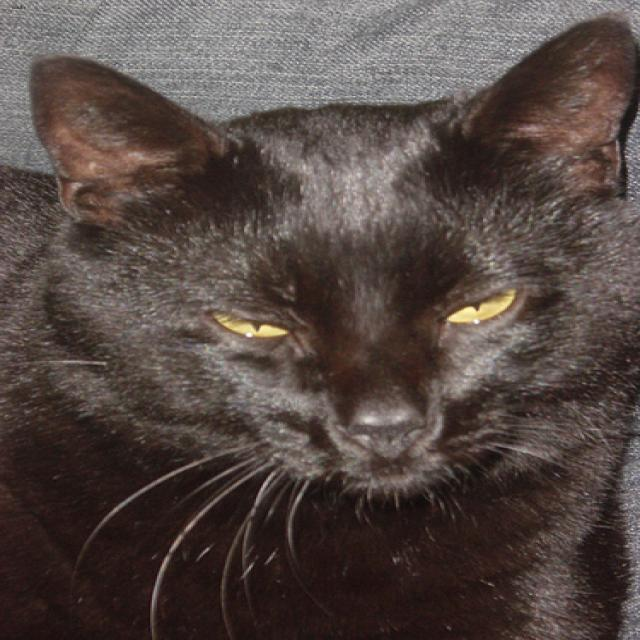Bombay: (24, 15, 640, 538)
